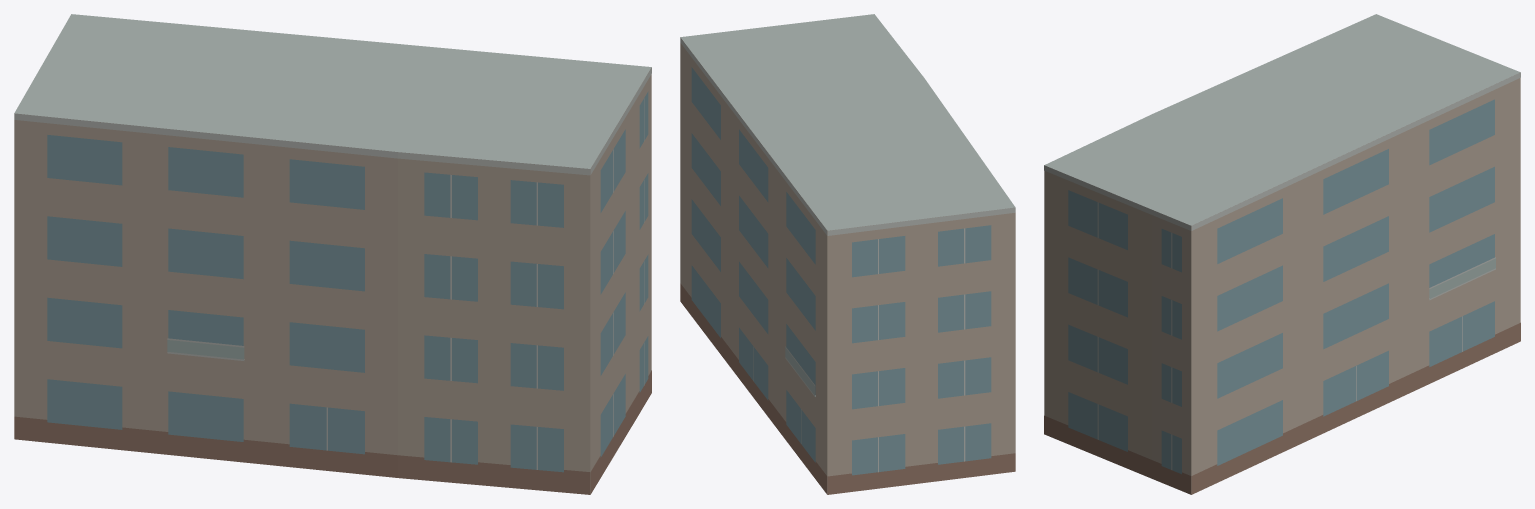
File: survey-upis-32959890.glb
3 renders of one model, left to right at view 1: azimuth 30°, elevation 25°; view 2: azimuth 150°, elevation 25°; view 3: azimuth 270°, elevation 25°, orthographic. The views are drawn at different scales.
Visible parts, largest first — view 1: survey-upis-32959890.tmp; view 2: survey-upis-32959890.tmp; view 3: survey-upis-32959890.tmp.
Boxes of the visible parts, x1=… form: survey-upis-32959890.tmp: x1=14, y1=14, x2=651, y2=494; survey-upis-32959890.tmp: x1=680, y1=14, x2=1015, y2=494; survey-upis-32959890.tmp: x1=1044, y1=14, x2=1520, y2=494.
Bounding box in the file's own units: 20.77 × 12.3 × 19.75.
